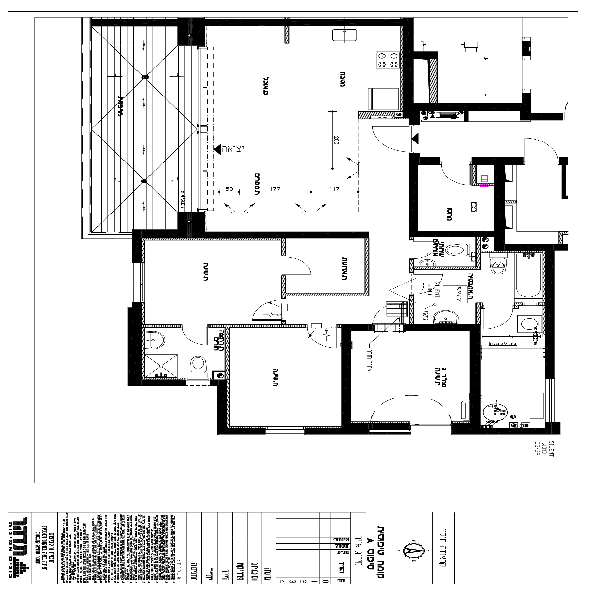room: (175, 18, 415, 241), (131, 228, 374, 324), (471, 244, 560, 440), (217, 323, 354, 434), (341, 324, 478, 434), (402, 19, 527, 119), (364, 228, 481, 331), (409, 154, 504, 236), (125, 318, 231, 390)
